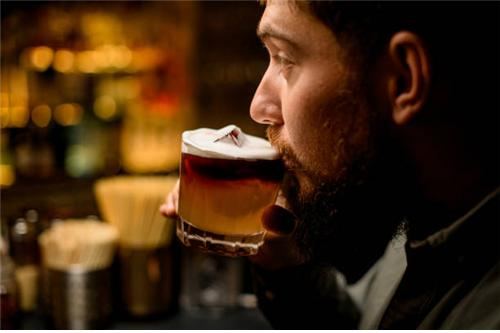alcohol: (175, 126, 281, 255)
